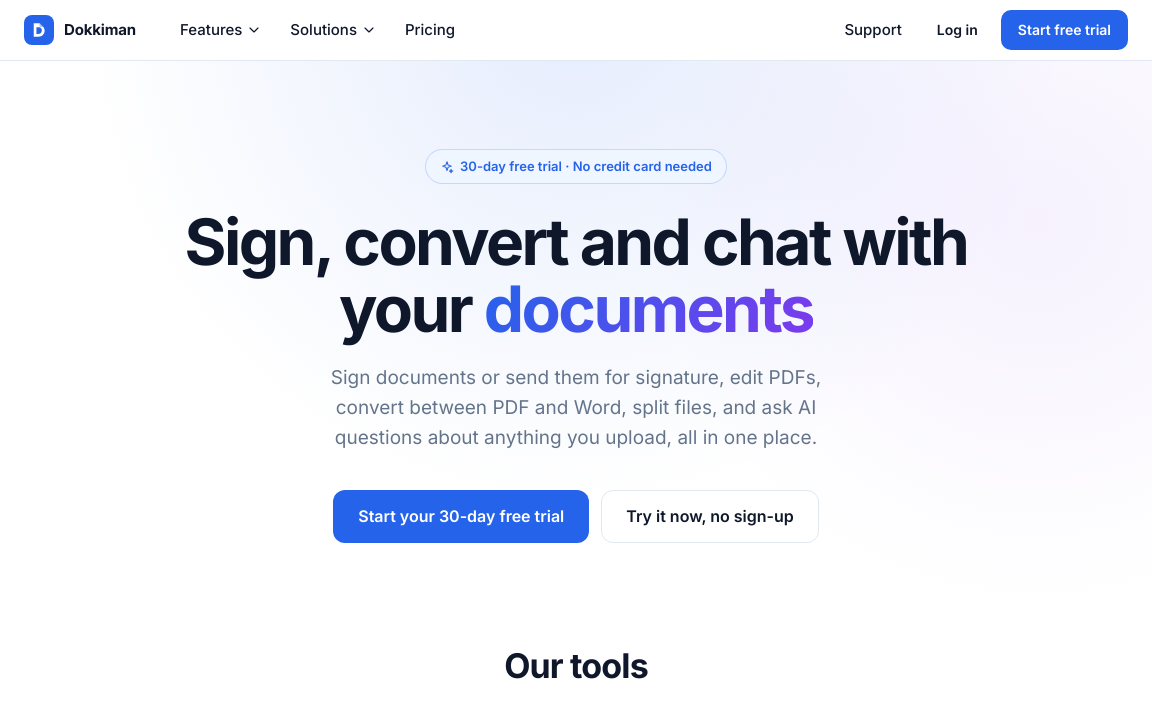
Scenario: visitors can open a tool from the homepage without an account
The image size is (1152, 720).
Step 1. Click the button "Try it now, no sign-up" → [710, 516], box [601, 490, 819, 543]
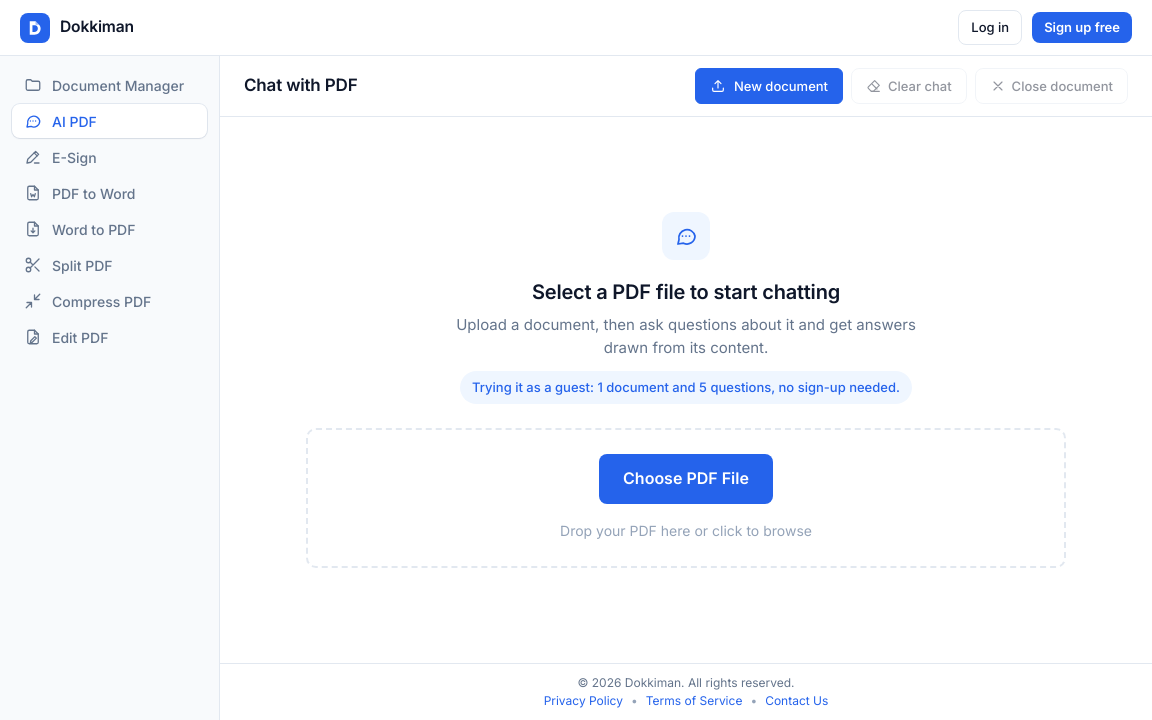
Expected: the heading "Chat with PDF" is shown, [244, 72, 358, 100]
Expected: the text "Trying it as a guest: 1 document and 5 questions" is shown, [460, 371, 912, 404]
Expected: the button "Sign up free" is shown, [1032, 12, 1132, 43]
